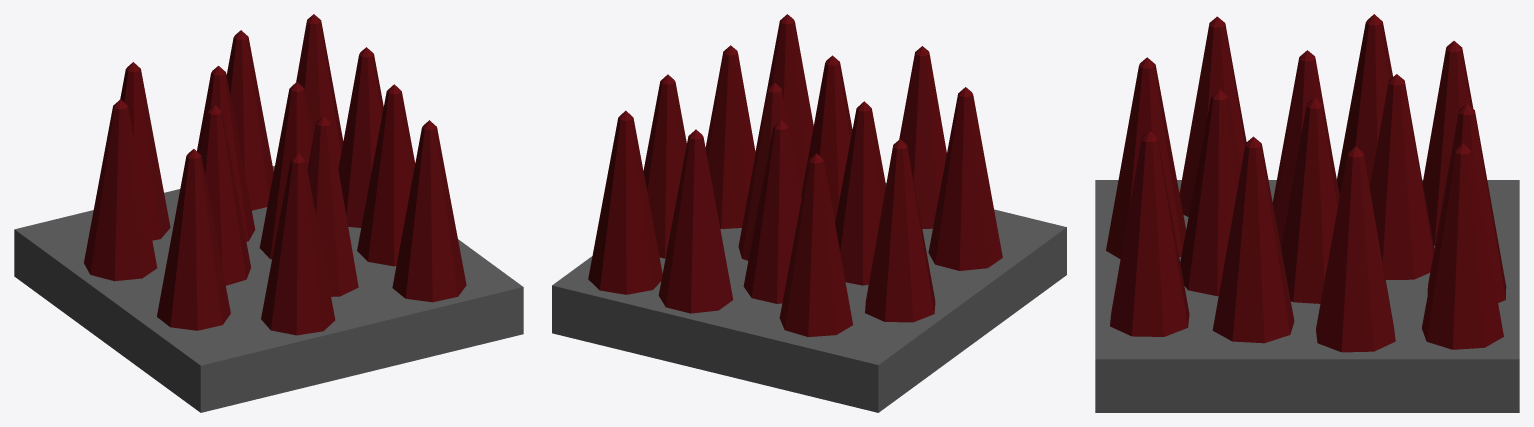
Rendered from Spikes.glb.
The picture shows the model from 3 angles, left to right: view 1: azimuth 30°, elevation 25°; view 2: azimuth 150°, elevation 25°; view 3: azimuth 270°, elevation 25°; orthographic projection. The views are drawn at different scales.
Visible parts, largest first — view 1: Cube.001; view 2: Cube.001; view 3: Cube.001.
Boxes of the visible parts, x1,y1,x2,y2 form: Cube.001: [14, 14, 523, 412]; Cube.001: [552, 14, 1066, 412]; Cube.001: [1095, 14, 1519, 412].
Bounding box in the file's own units: 2 × 1.27 × 2.
